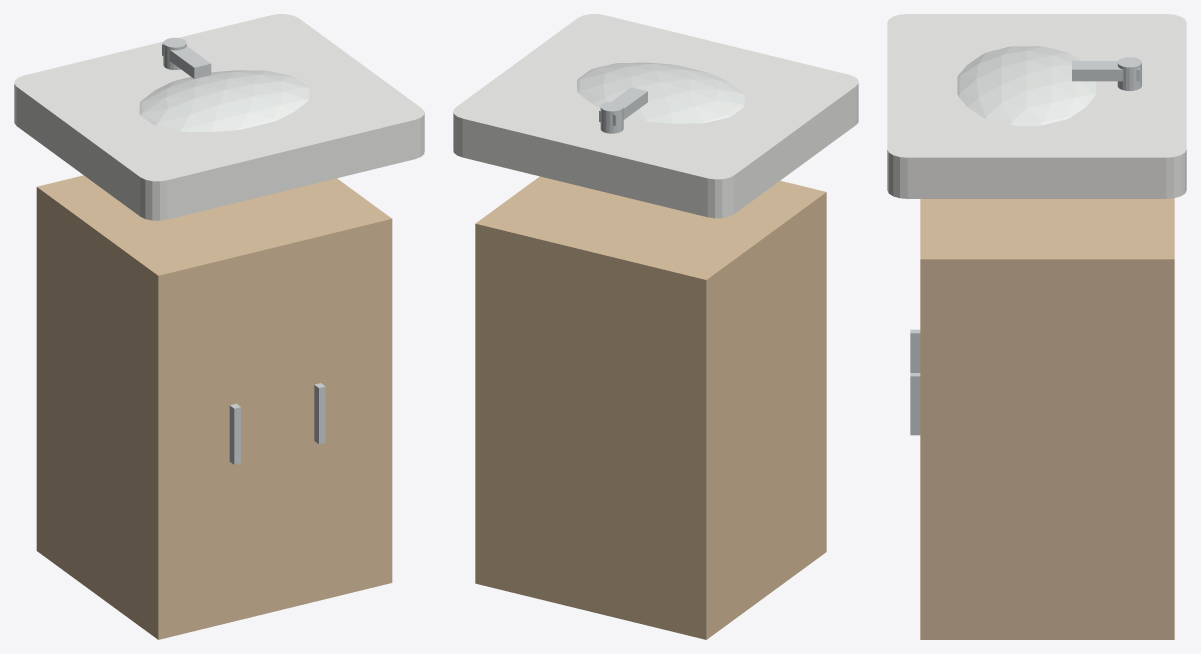
File: g-bed2-o04-973fb18019.glb
3 renders of one model, left to right at view 1: azimuth 30°, elevation 25°; view 2: azimuth 150°, elevation 25°; view 3: azimuth 270°, elevation 25°, orthographic. The views are drawn at different scales.
Visible parts, largest first — view 1: cabinet, ceramic-rim, bowl, spout, handle-5, handle-6; view 2: cabinet, ceramic-rim, bowl, spout, tap; view 3: cabinet, ceramic-rim, bowl, spout, handle-6, tap, handle-5.
Boxes of the visible parts, bbox=[...] form: cabinet: bbox=[36, 175, 392, 639]; ceramic-rim: bbox=[14, 14, 424, 220]; bowl: bbox=[139, 70, 309, 131]; spout: bbox=[162, 44, 211, 78]; handle-5: bbox=[229, 403, 240, 464]; handle-6: bbox=[314, 383, 325, 444]; cabinet: bbox=[475, 176, 826, 639]; ceramic-rim: bbox=[453, 14, 858, 218]; bowl: bbox=[577, 62, 744, 123]; spout: bbox=[599, 87, 647, 125]; tap: bbox=[600, 101, 623, 133]; cabinet: bbox=[920, 198, 1174, 639]; ceramic-rim: bbox=[887, 14, 1186, 198]; bowl: bbox=[957, 46, 1096, 125]; spout: bbox=[1072, 61, 1139, 81]; handle-6: bbox=[910, 373, 920, 435]; tap: bbox=[1117, 57, 1141, 90]; handle-5: bbox=[910, 329, 920, 372].
Bounding box in the file's own units: 0.5 × 0.84 × 0.44.
